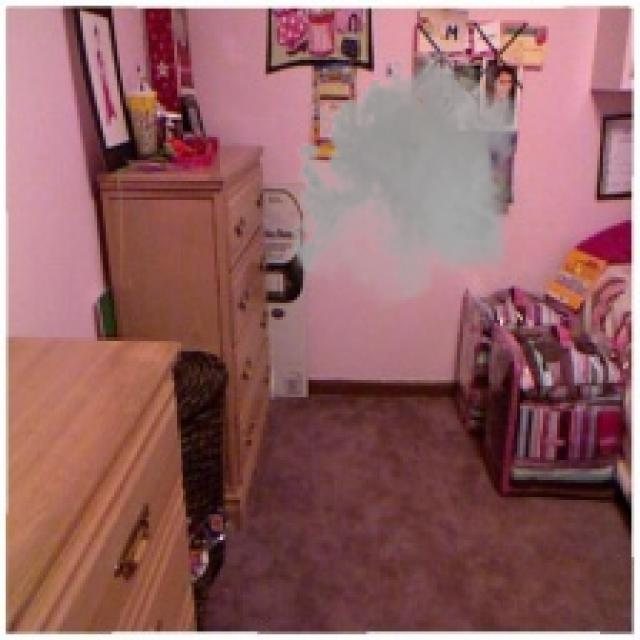smoke: (283, 43, 528, 317)
